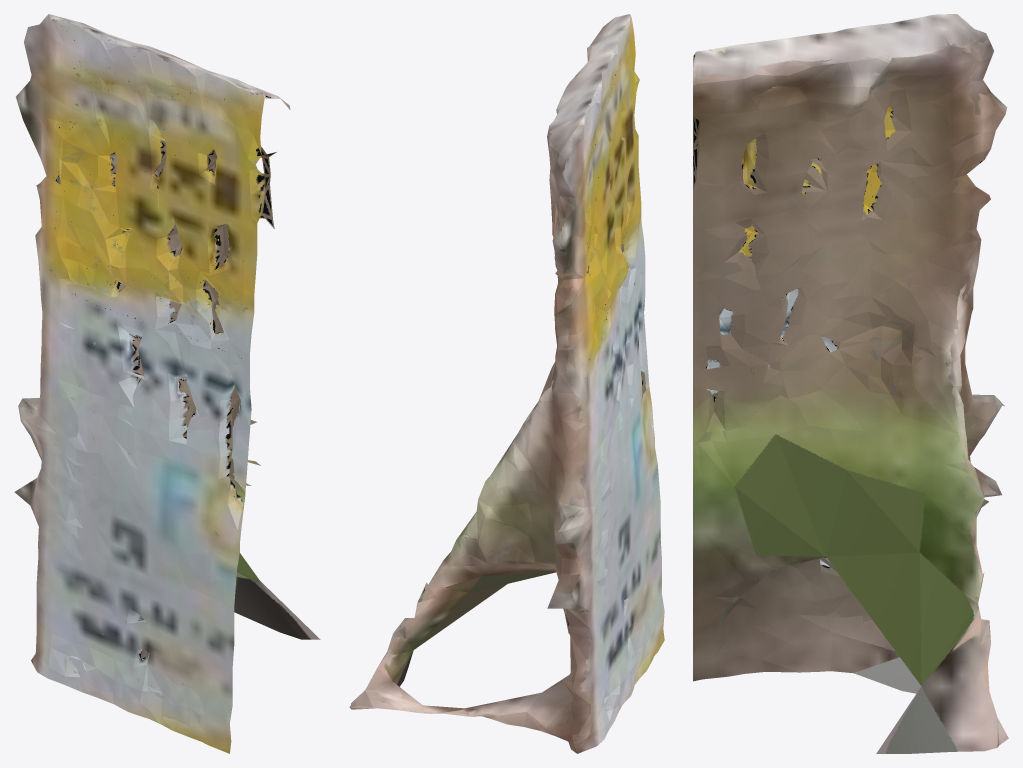
The picture shows the model from 3 angles, left to right: view 1: azimuth 30°, elevation 25°; view 2: azimuth 150°, elevation 25°; view 3: azimuth 270°, elevation 25°; orthographic projection. The views are drawn at different scales.
Bounding box in the file's own units: 0.327 × 0.8291 × 0.3751.
Materials: 1 (1 with a texture image).
